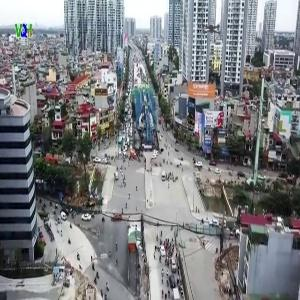drone: (187, 3, 238, 54)
